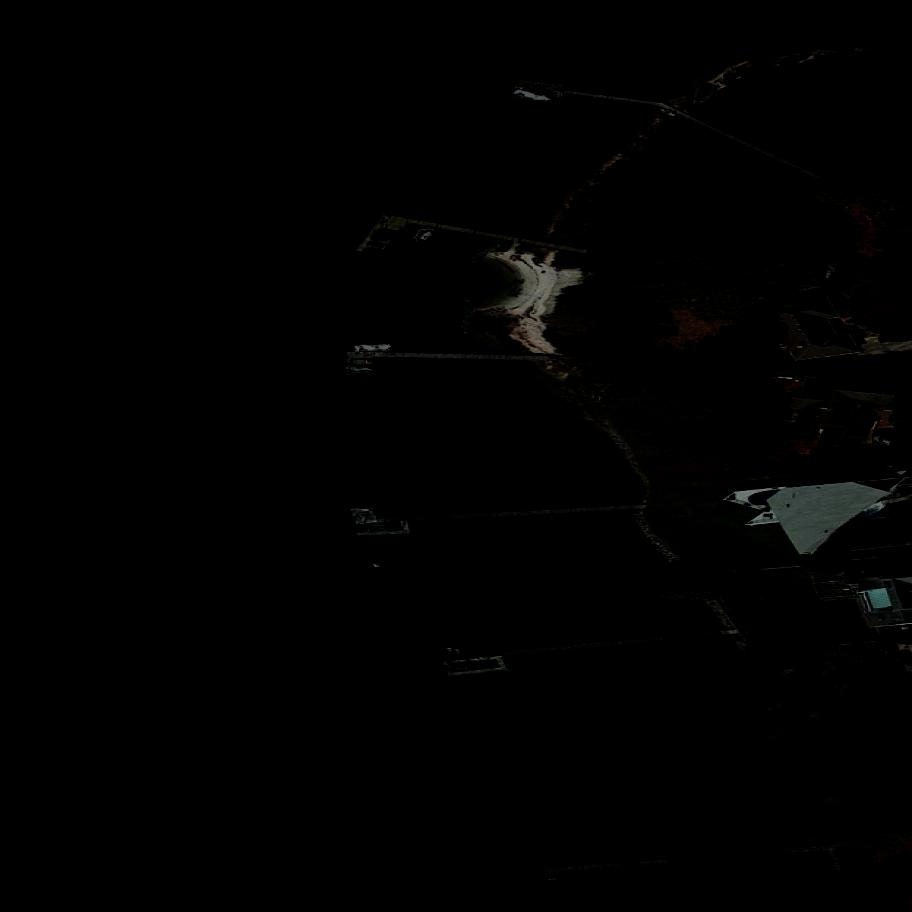ship: (509, 88, 561, 108), (352, 341, 397, 353), (418, 227, 438, 247), (345, 367, 377, 373)
small-vehicle: (873, 434, 905, 455), (873, 430, 906, 441)
